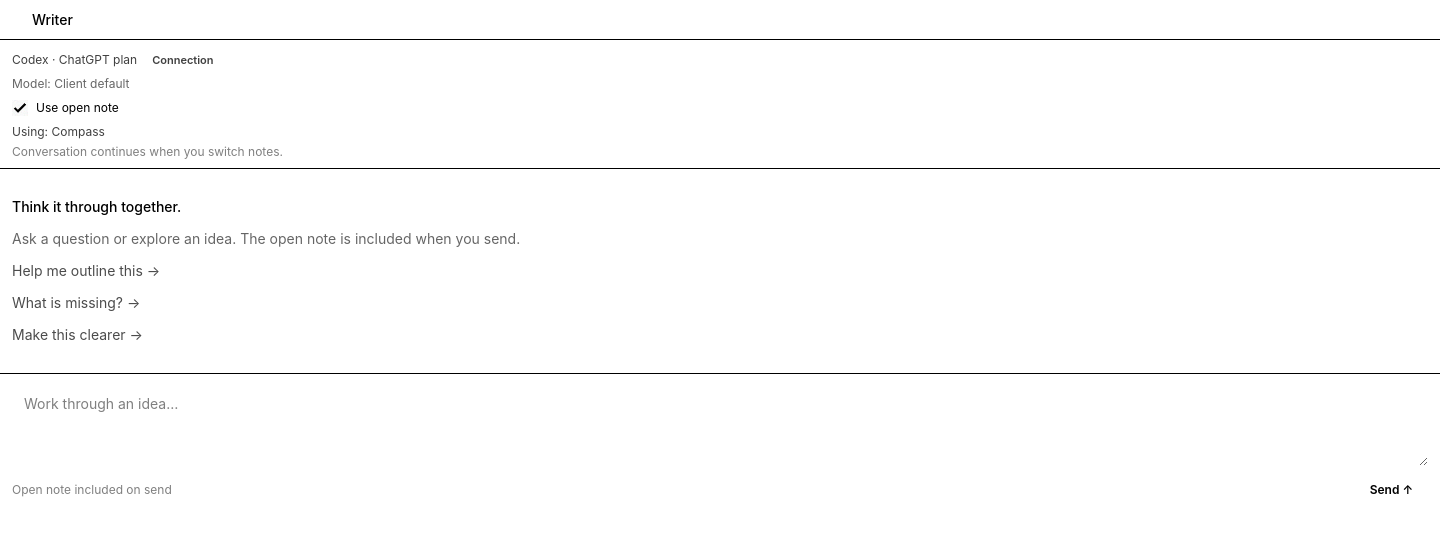
Scenario: updates the open context preview when the unsaved draft changes
Click the button "Using: Compass": click(58, 132) [12,124,1428,140]
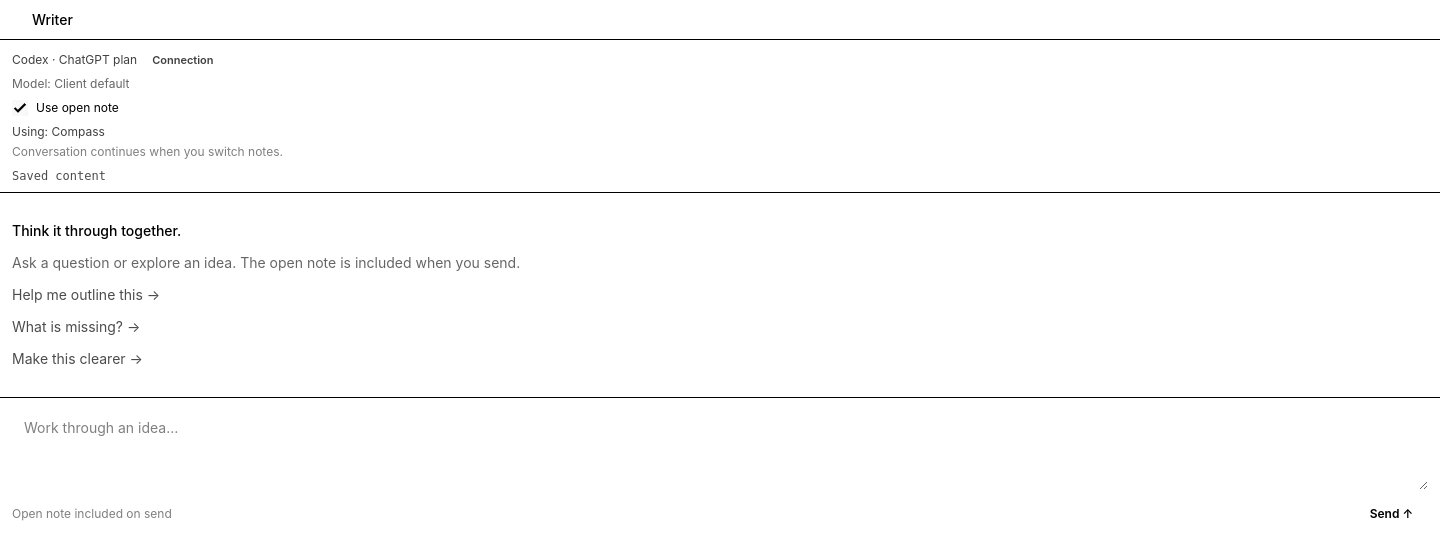
expect the text "Typed but not saved" is shown: met, box [12,169,106,183]
